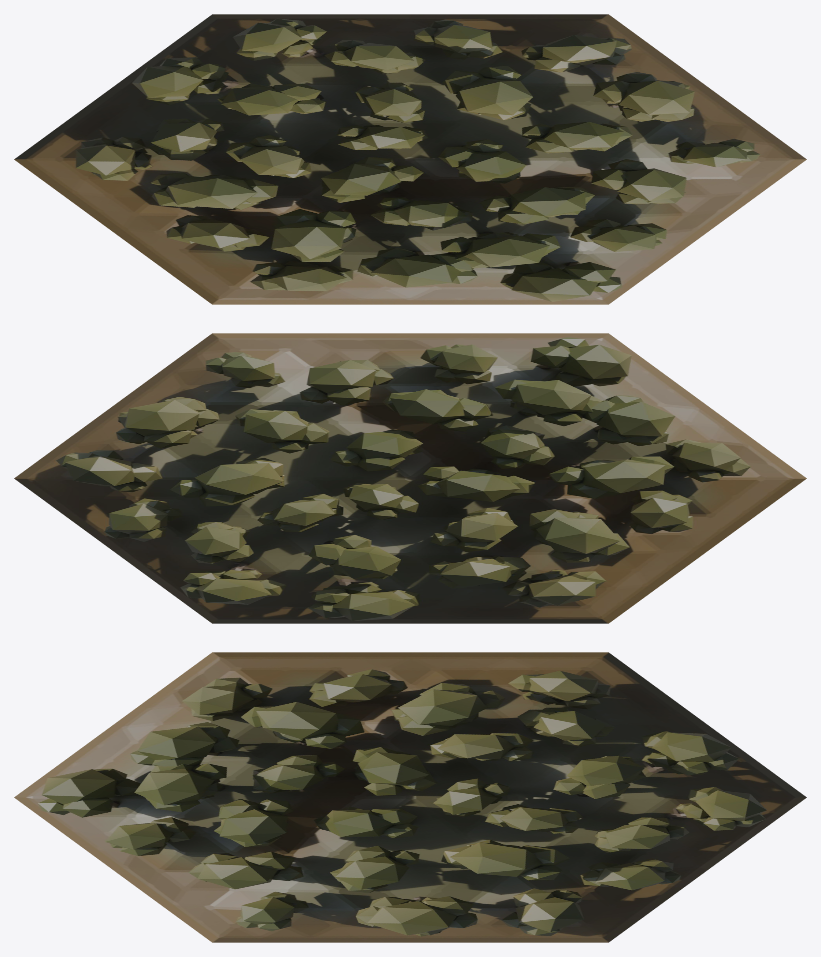
The model's file is tropicalSeasonalForest.glb.
The picture shows the model from 3 angles, top to bottom: view 1: azimuth 30°, elevation 25°; view 2: azimuth 150°, elevation 25°; view 3: azimuth 270°, elevation 25°; orthographic projection.
Visible parts, largest first — view 1: Deciduousforest_flat; view 2: Deciduousforest_flat; view 3: Deciduousforest_flat.
Boxes of the visible parts, x1,y1,x2,y2 form: Deciduousforest_flat: [14, 14, 806, 304]; Deciduousforest_flat: [14, 333, 806, 623]; Deciduousforest_flat: [14, 652, 806, 942].
Size of the model in its own units: 1.73 by 0 by 2.
1 material, 1 textured.
